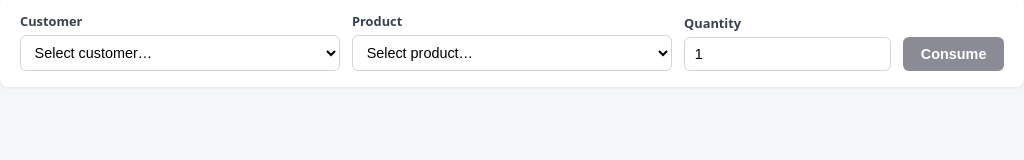
Test: ConsumeForm › surfaces 402 insufficient funds immediately, without retrying
The width and height of the screenshot is (1024, 160).
Select "Acme ($2.50)" in the dropdown labelled "Customer": (180, 53) [20,35,340,71]
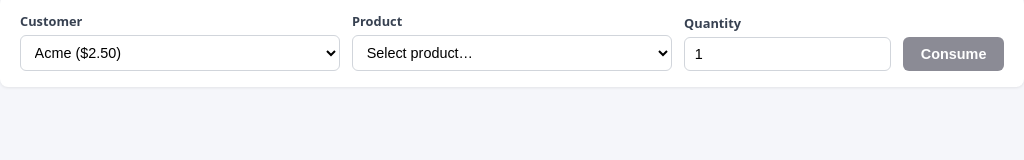
Select "Widget ($2.50/unit)" in the dropdown labelled "Product": (512, 53) [352,35,672,71]
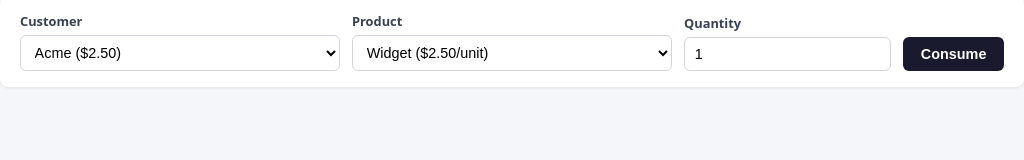
Replace the text in the number field labelled "Quantity" with "3": (788, 54) [684,37,891,71]
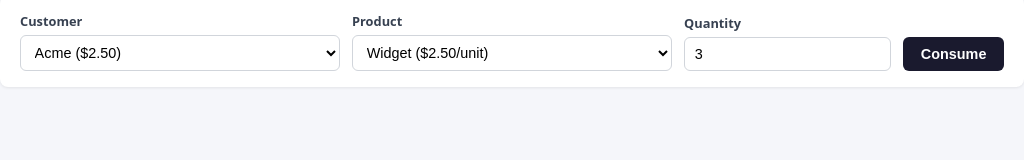
Click the button "Consume": click(954, 54) [903,37,1004,71]
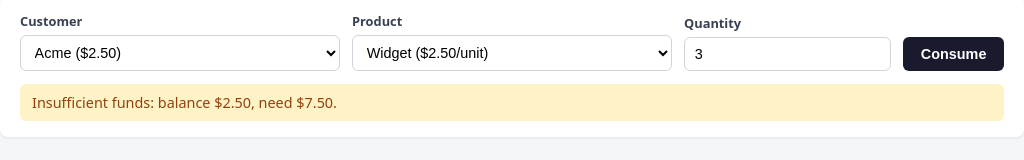
Result: the message shows "Insufficient funds: balance $2.50, need $7.50" at [20,84,1004,121]
